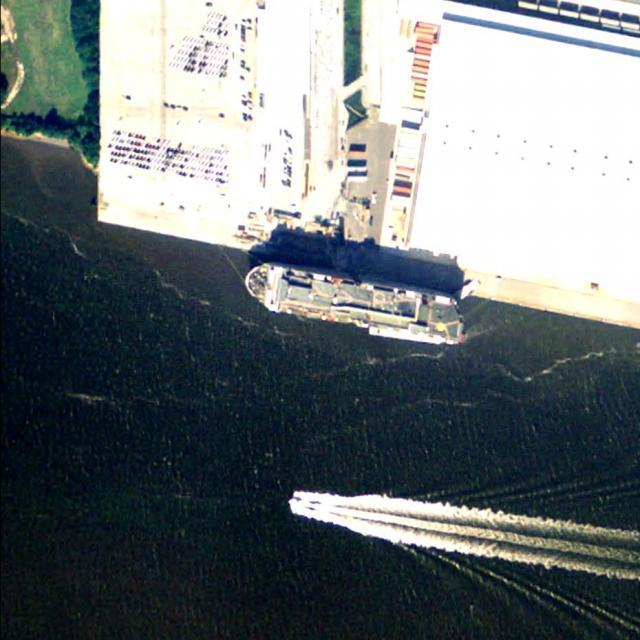Cargo: (238, 257, 473, 354)
RoRo: (235, 254, 473, 353)
